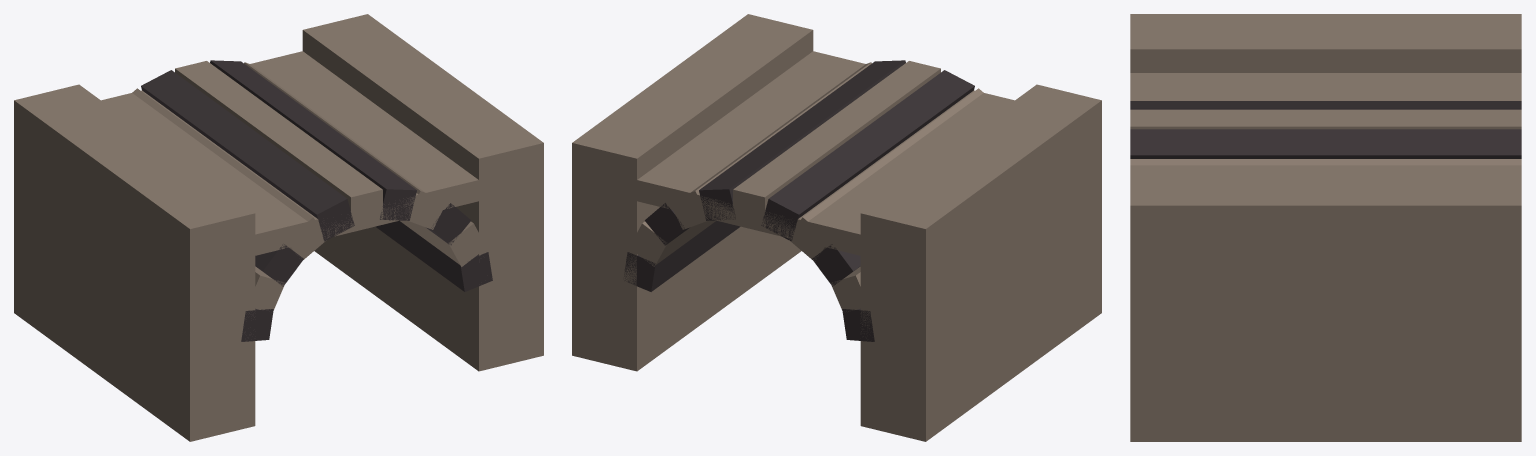
The model's file is stone_arch.glb.
The picture shows the model from 3 angles, left to right: view 1: azimuth 30°, elevation 25°; view 2: azimuth 150°, elevation 25°; view 3: azimuth 270°, elevation 25°; orthographic projection. The views are drawn at different scales.
Parts seen in each view (by area): view 1: LOD0; view 2: LOD0; view 3: LOD0.
Part boxes in pixels (<box>): LOD0: <box>14,14,543,441</box>; LOD0: <box>572,14,1101,441</box>; LOD0: <box>1130,14,1521,441</box>.
Size of what is drawn, in the model's own units: 17.4 by 10 by 15.
